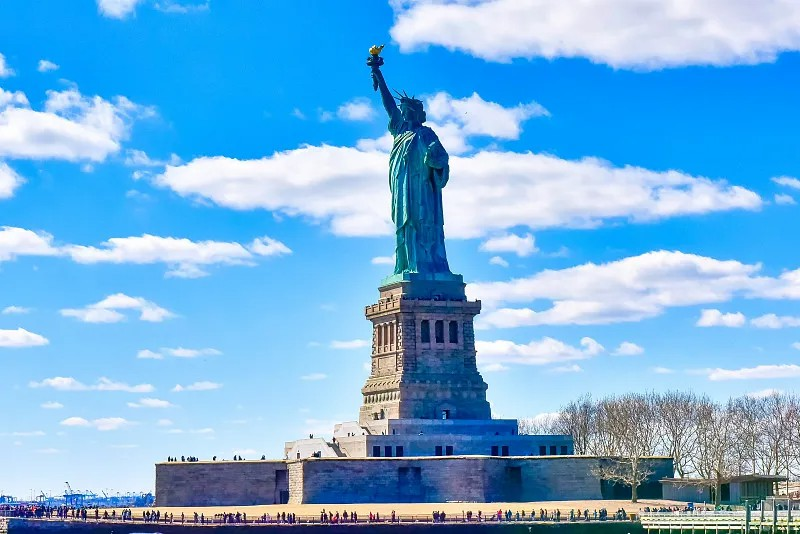SL: (359, 45, 492, 420)
